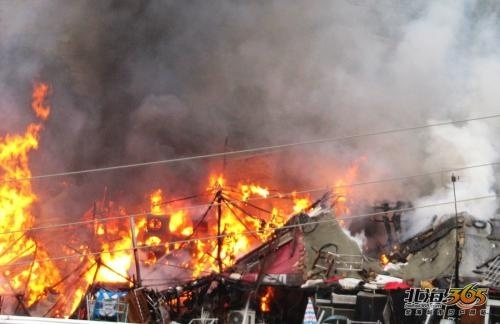fire: (61, 168, 295, 289), (0, 67, 54, 304), (259, 287, 274, 312)
